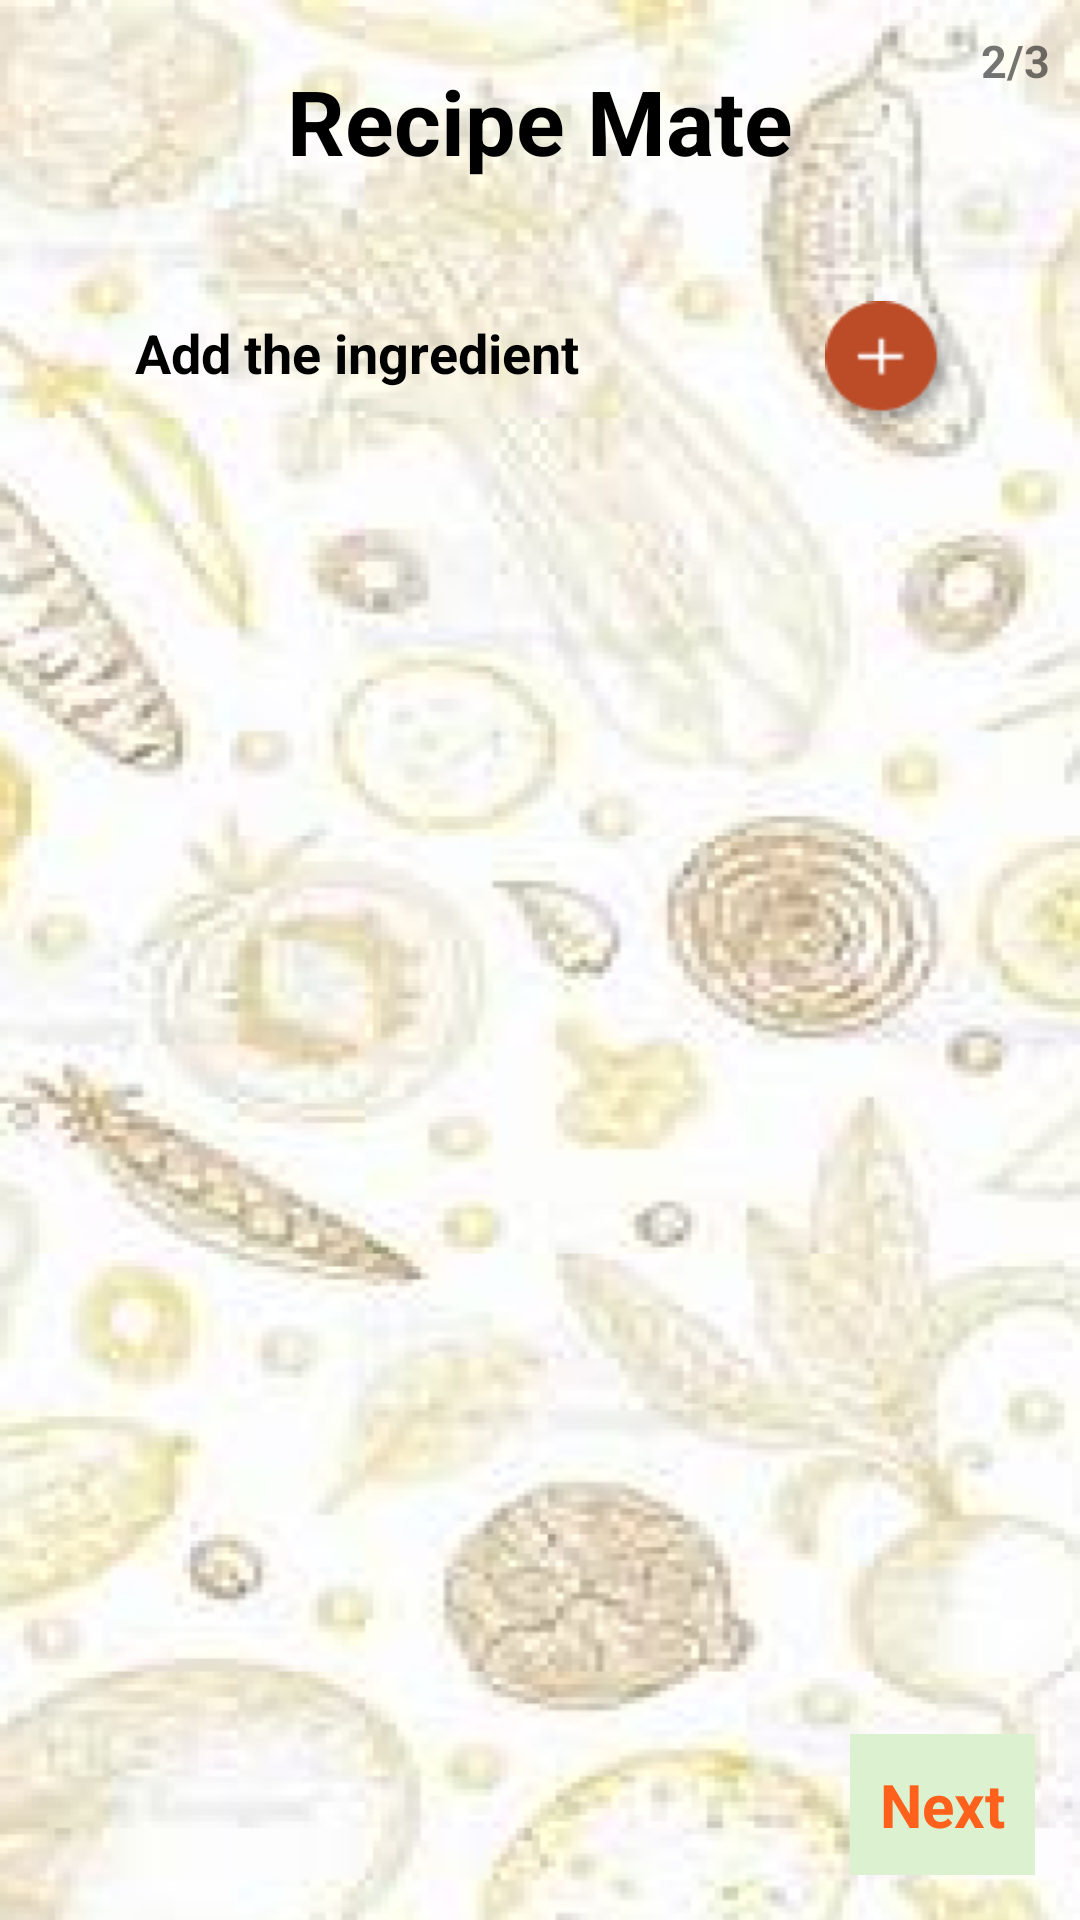

Icon click points for this 1080x1920 phone screenshot, format point (x, y):
plus: point (891, 366)
